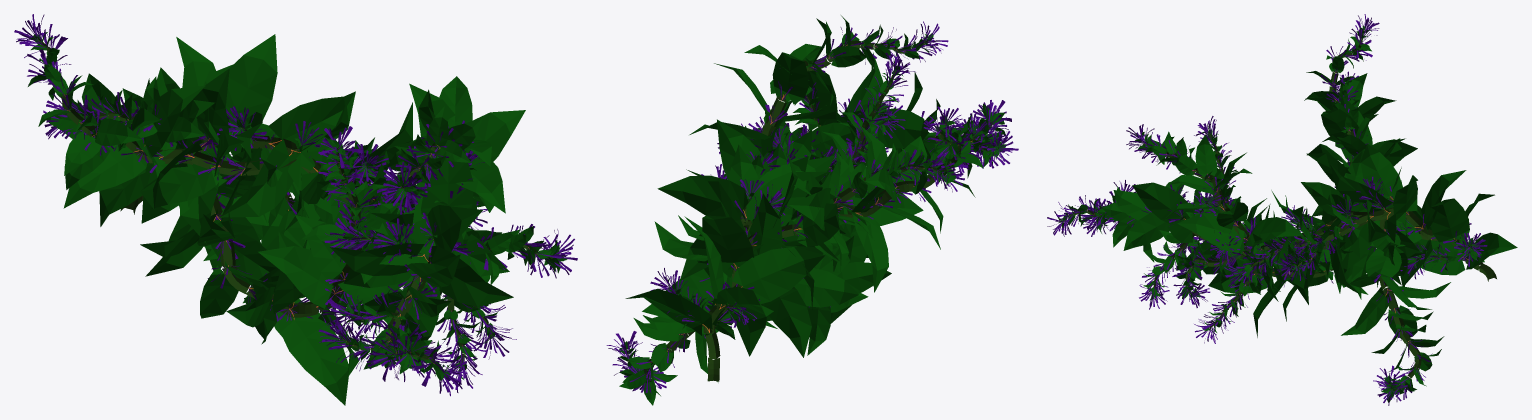
Rendered from plants2.obj.
3 views of the same model, side by side, from view 1: azimuth 30°, elevation 25°; view 2: azimuth 150°, elevation 25°; view 3: azimuth 270°, elevation 25° (orthographic). The views are drawn at different scales.
Parts seen in each view (by area): view 1: 1Breeder; view 2: 1Breeder; view 3: 1Breeder.
Part boxes in pixels (bbox=[...]): 1Breeder: bbox=[14, 14, 577, 405]; 1Breeder: bbox=[606, 15, 1018, 405]; 1Breeder: bbox=[1047, 14, 1517, 405].
Size of the model in its own units: 947 by 875 by 1369.
